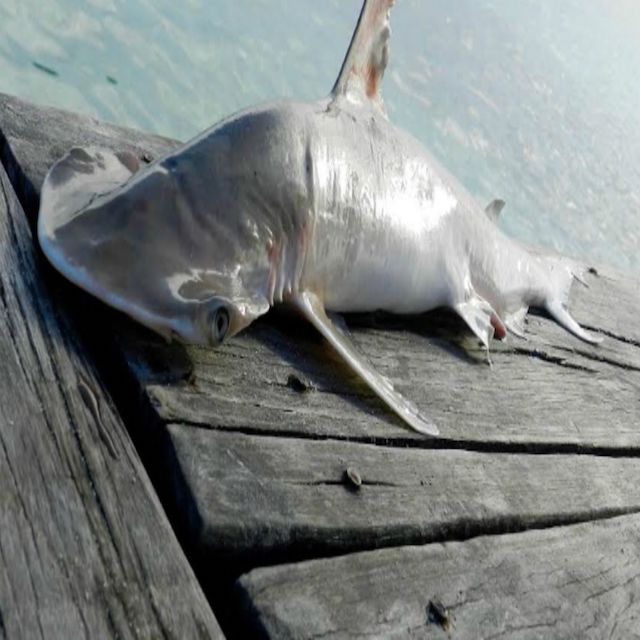hammerhead: (24, 95, 355, 368)
